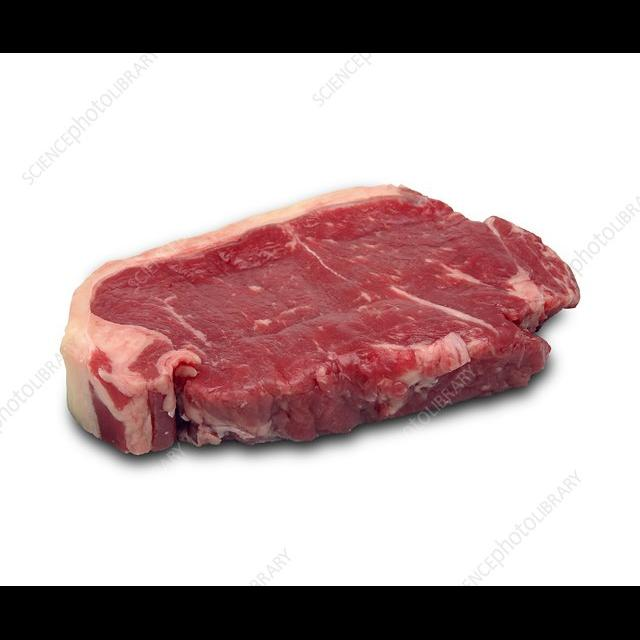beef: (59, 188, 586, 469)
